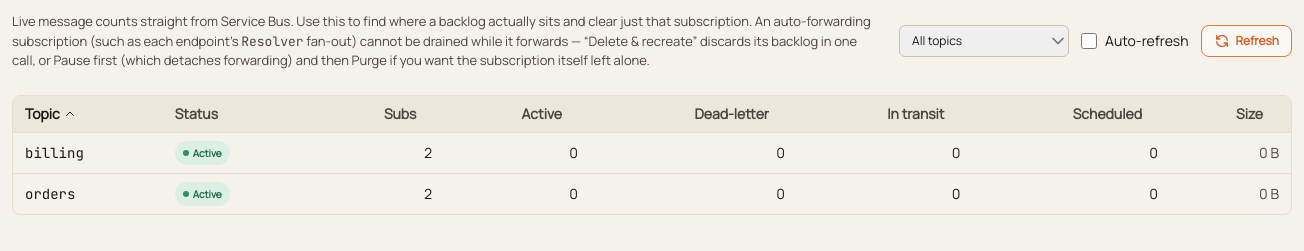
SubscriptionManager › offers no recreate for a subscription outside the platform topology
What coordinates should you click on to do the following:
click the button "orders"
I would click on:
 (50, 194)
Its box is [25,184,75,204].
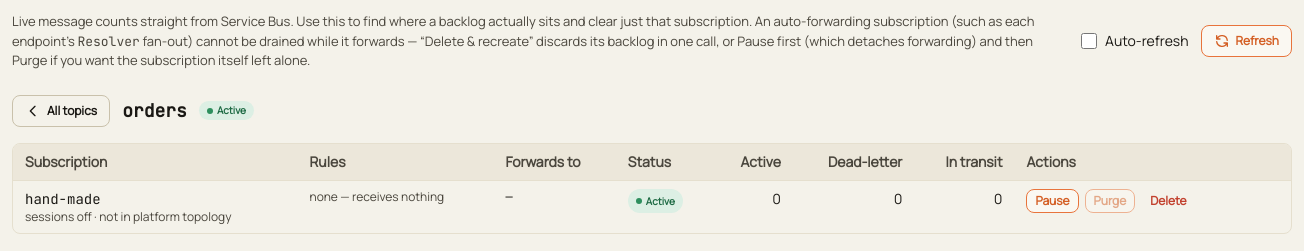
Result: the text "hand-made" is shown at [25,190,101,208]
